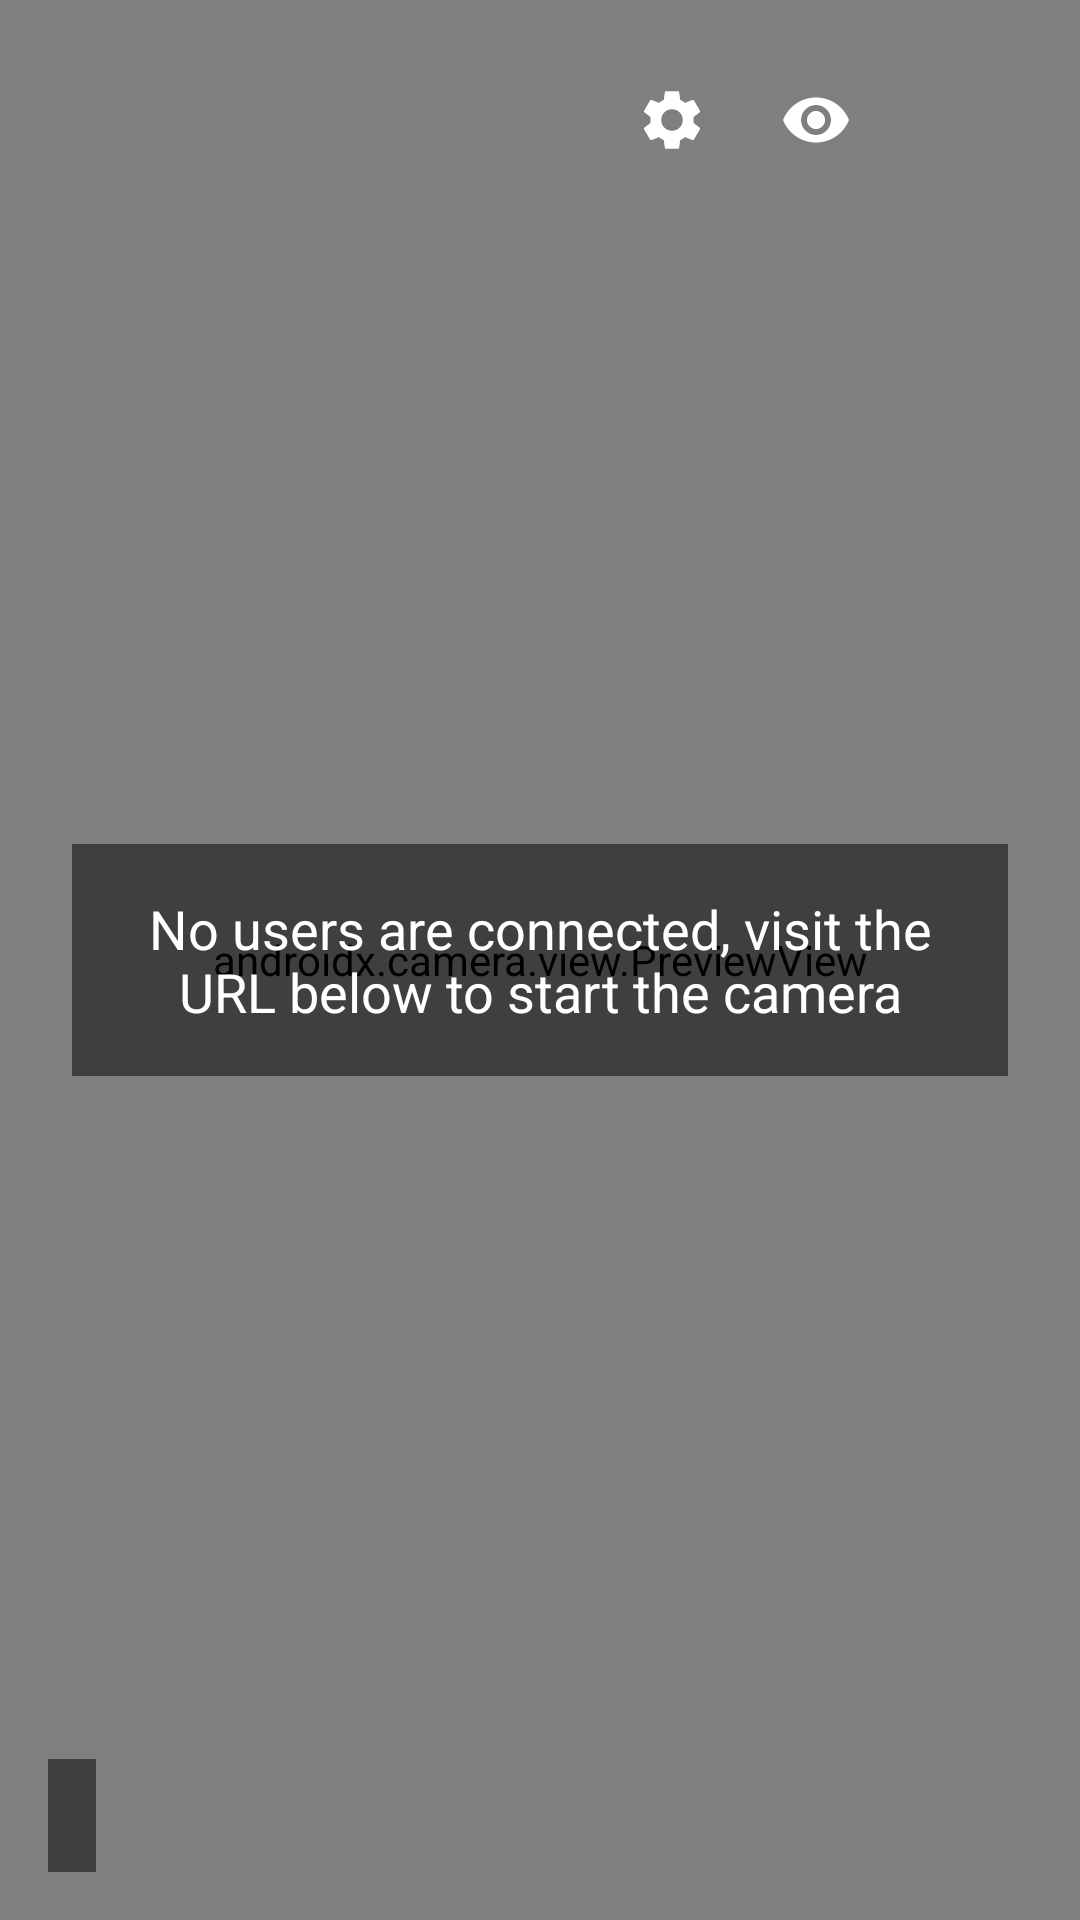

Named icons in this screenshot (1080 × 1920) and their bounding boxes, Rect(x1, y1, x2, y2):
Settings: Rect(644, 91, 700, 149)
Toggle Preview: Rect(783, 97, 849, 143)
